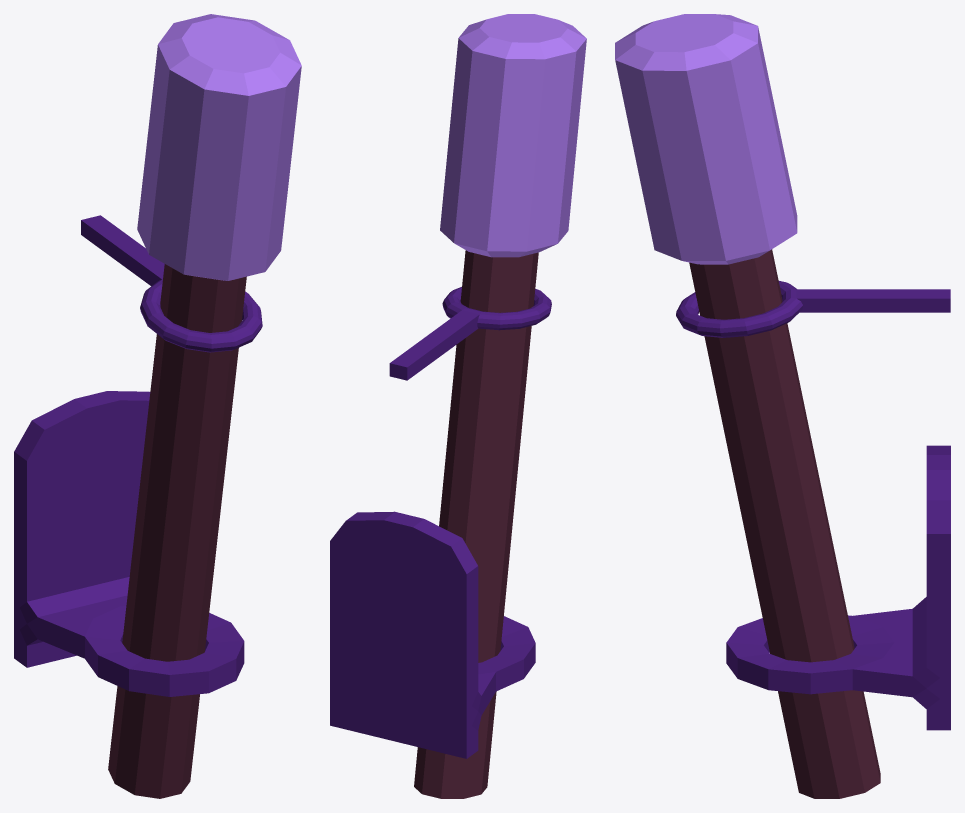
File: torchereCave_001_grp.fbx
3 views of the same model, side by side, from view 1: azimuth 30°, elevation 25°; view 2: azimuth 150°, elevation 25°; view 3: azimuth 270°, elevation 25° (orthographic). The views are drawn at different scales.
Parts seen in each view (by area): view 1: torchereCave_001_grp; view 2: torchereCave_001_grp; view 3: torchereCave_001_grp.
Boxes of the visible parts, x1,y1,x2,y2 form: torchereCave_001_grp: [14, 14, 301, 798]; torchereCave_001_grp: [330, 14, 586, 798]; torchereCave_001_grp: [615, 14, 950, 798].
Size of the model in its own units: 20 by 100 by 40.
